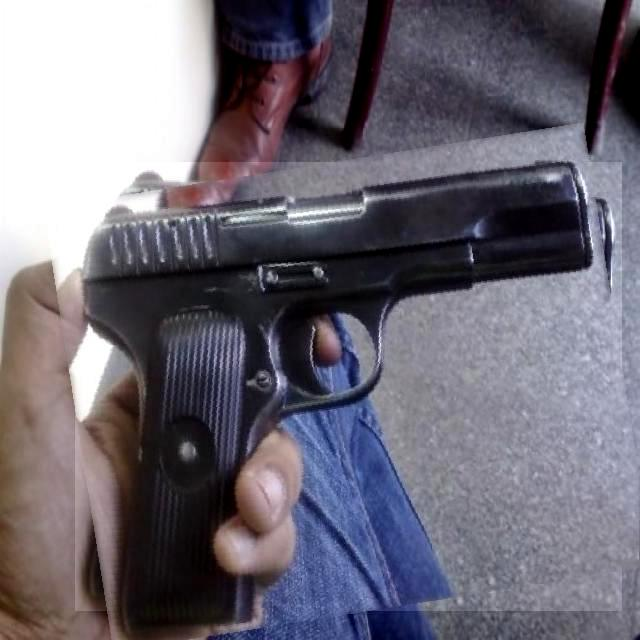pistol: (58, 142, 638, 630)
